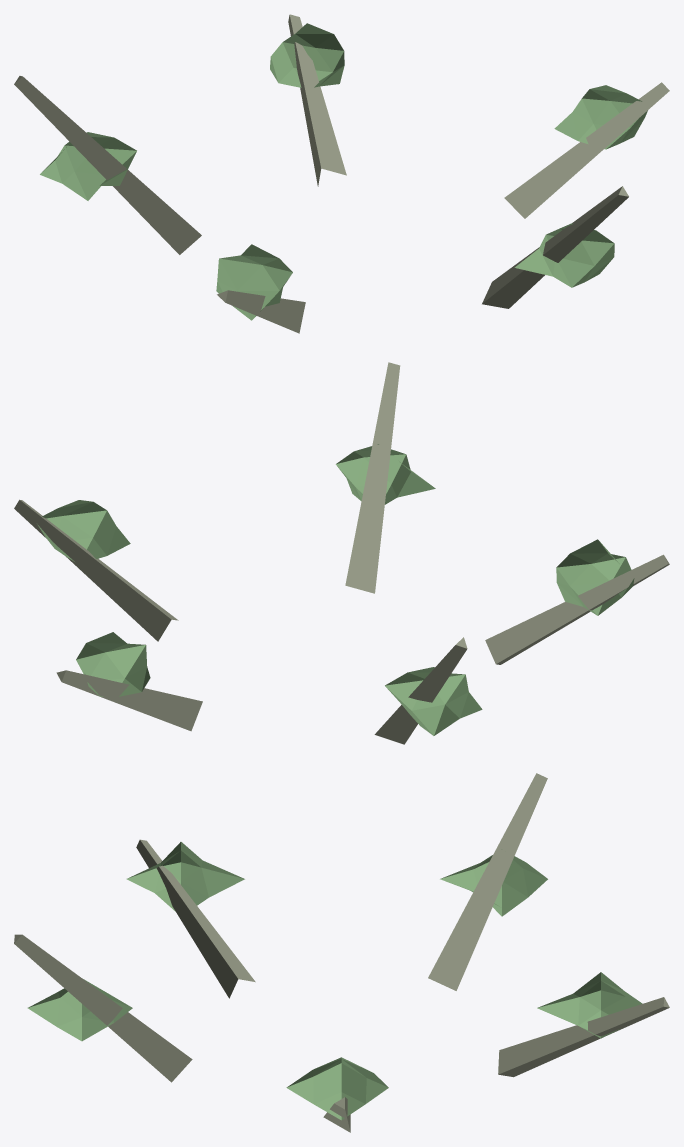
Rendered from bramble_v14.glb.
3 renders of one model, top to bottom at view 1: azimuth 30°, elevation 25°; view 2: azimuth 150°, elevation 25°; view 3: azimuth 270°, elevation 25°, orthographic. The views are drawn at different scales.
Parts seen in each view (by area): view 1: lod0; view 2: lod0; view 3: lod0.
Part boxes in pixels (bbox=[...]): lod0: bbox=[14, 14, 669, 333]; lod0: bbox=[14, 362, 669, 744]; lod0: bbox=[14, 773, 669, 1132].
Size of what is drawn, in the model's own units: 0.8587 by 0.2551 by 0.9.
